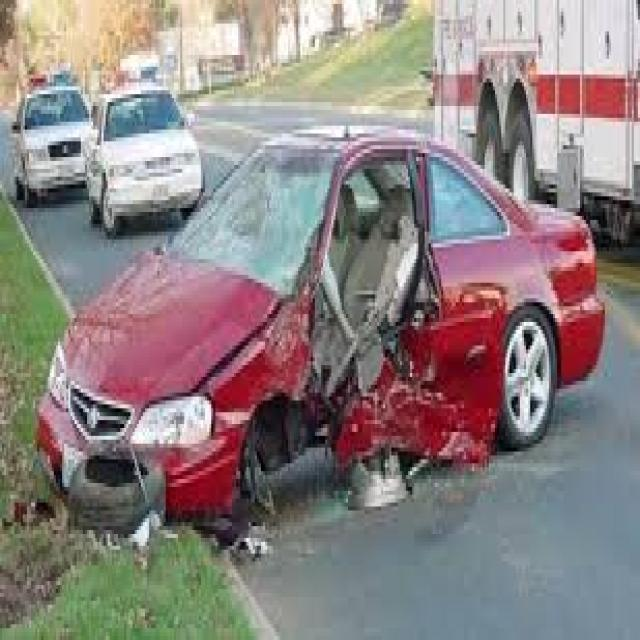severe: (223, 112, 512, 540)
